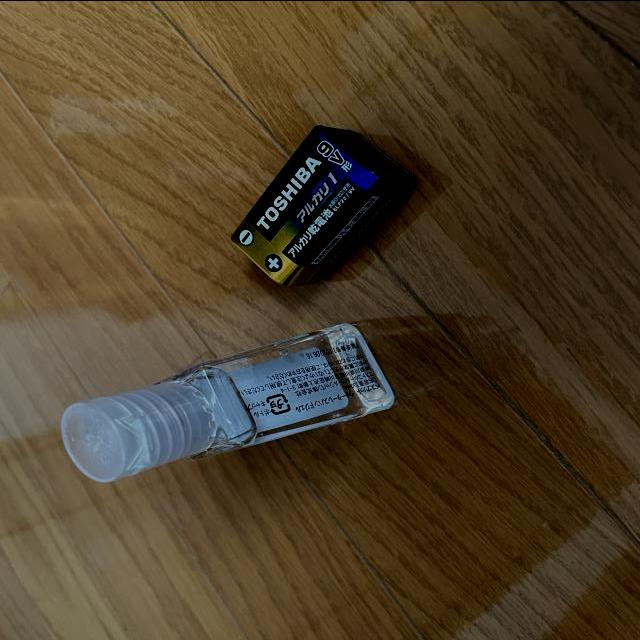9V: (229, 125, 412, 284)
